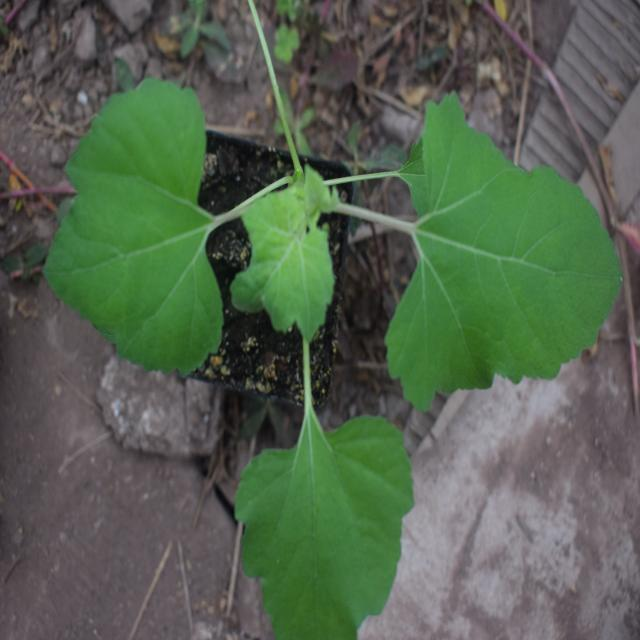cocklebur: (56, 85, 593, 622)
